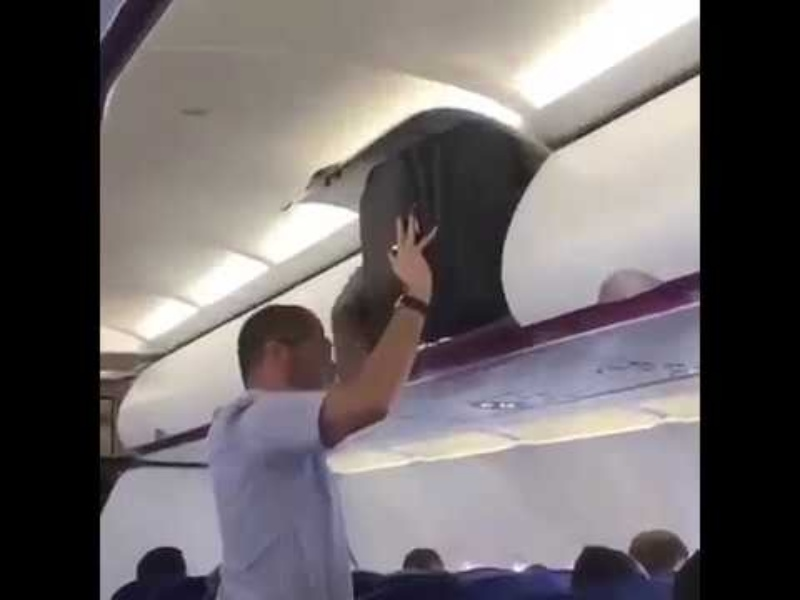close_bin: (505, 51, 715, 380), (109, 245, 362, 463)
open_bin: (278, 97, 550, 400)
